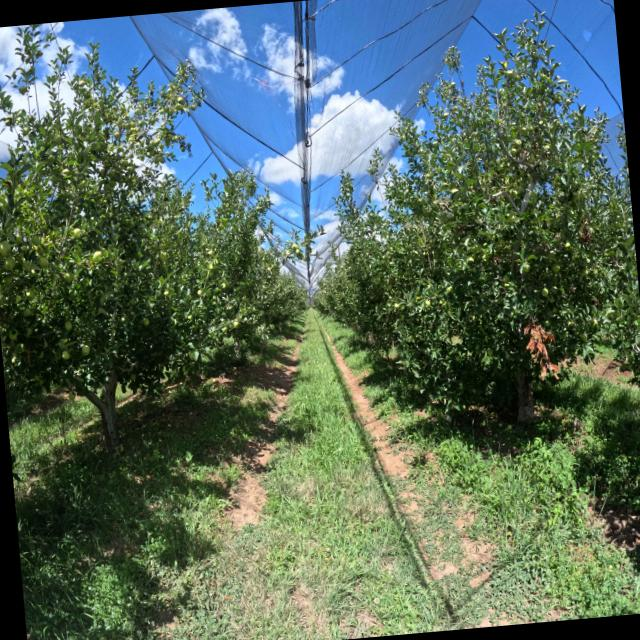-FireBlight-: (522, 320, 560, 382)
